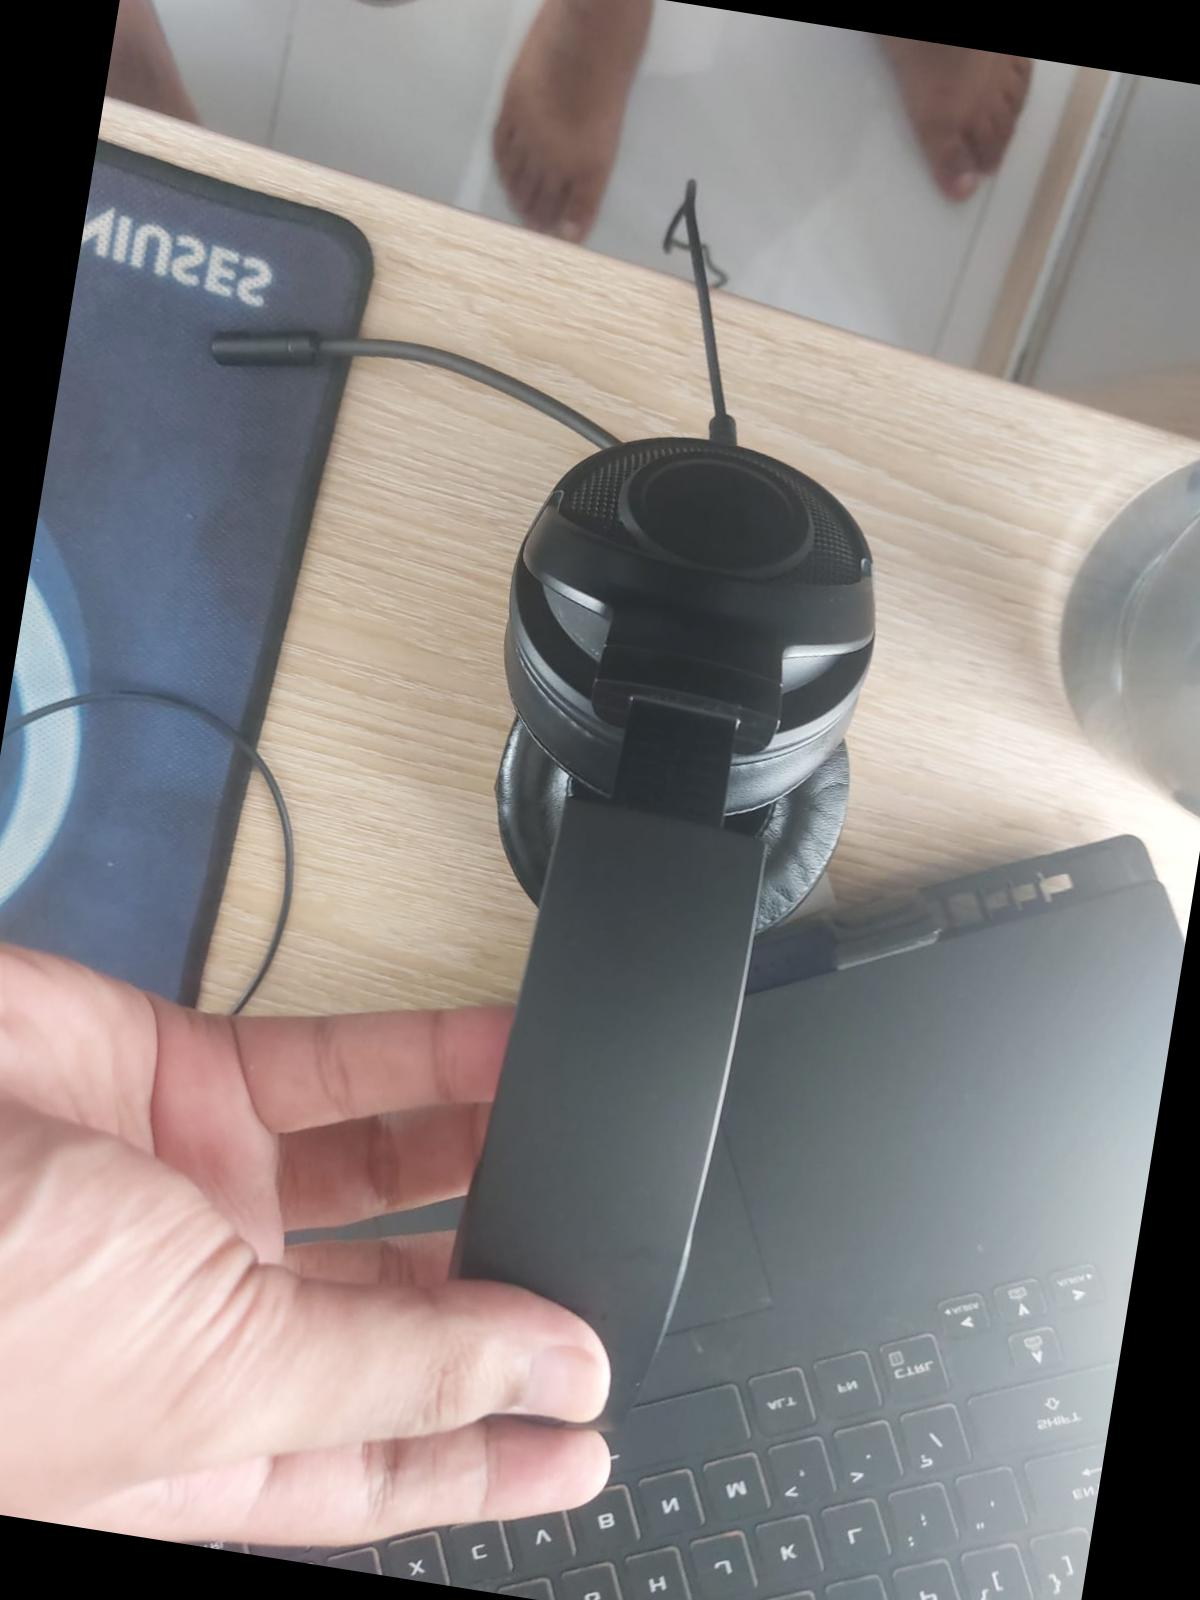Headset: (48, 254, 943, 1429)
